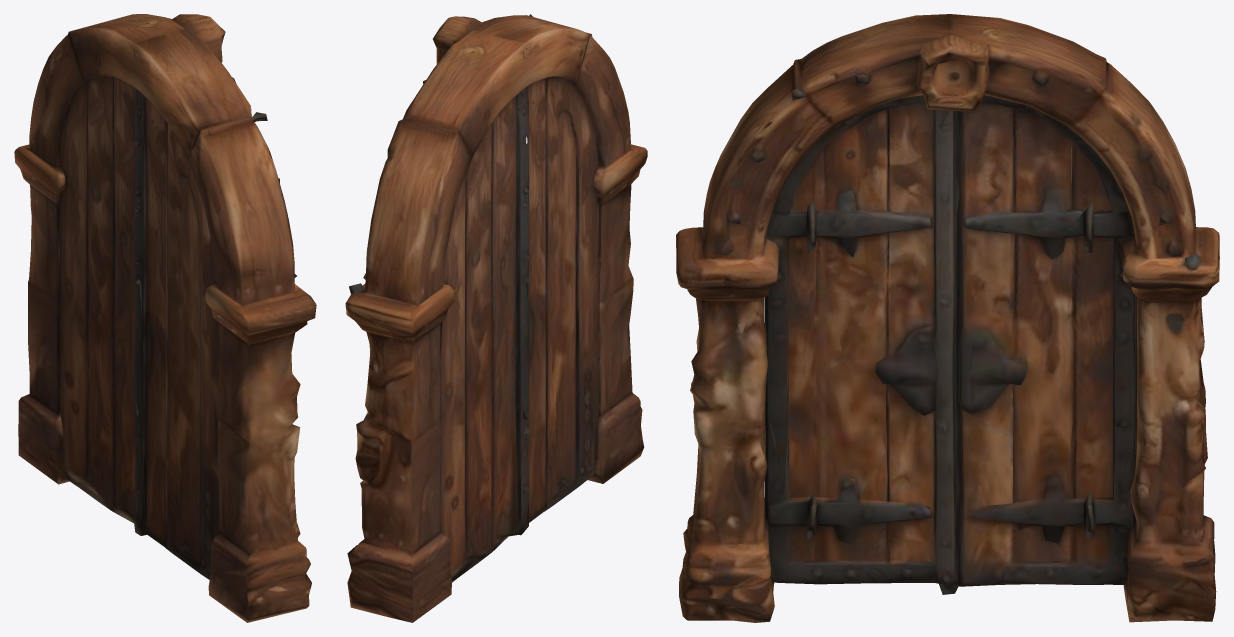
Rendered from door.glb.
3 renders of one model, left to right at view 1: azimuth 30°, elevation 25°; view 2: azimuth 150°, elevation 25°; view 3: azimuth 270°, elevation 25°, orthographic. The views are drawn at different scales.
Parts seen in each view (by area): view 1: tripo_node_261a3664-8282-4913-b145-7b3ab7a6e1af; view 2: tripo_node_261a3664-8282-4913-b145-7b3ab7a6e1af; view 3: tripo_node_261a3664-8282-4913-b145-7b3ab7a6e1af.
Boxes of the visible parts, x1,y1,x2,y2 form: tripo_node_261a3664-8282-4913-b145-7b3ab7a6e1af: (14, 14, 316, 622); tripo_node_261a3664-8282-4913-b145-7b3ab7a6e1af: (345, 14, 647, 622); tripo_node_261a3664-8282-4913-b145-7b3ab7a6e1af: (676, 14, 1219, 622).
Bounding box in the file's own units: 0.1774 × 1 × 0.8418.
1 material, 1 textured.
